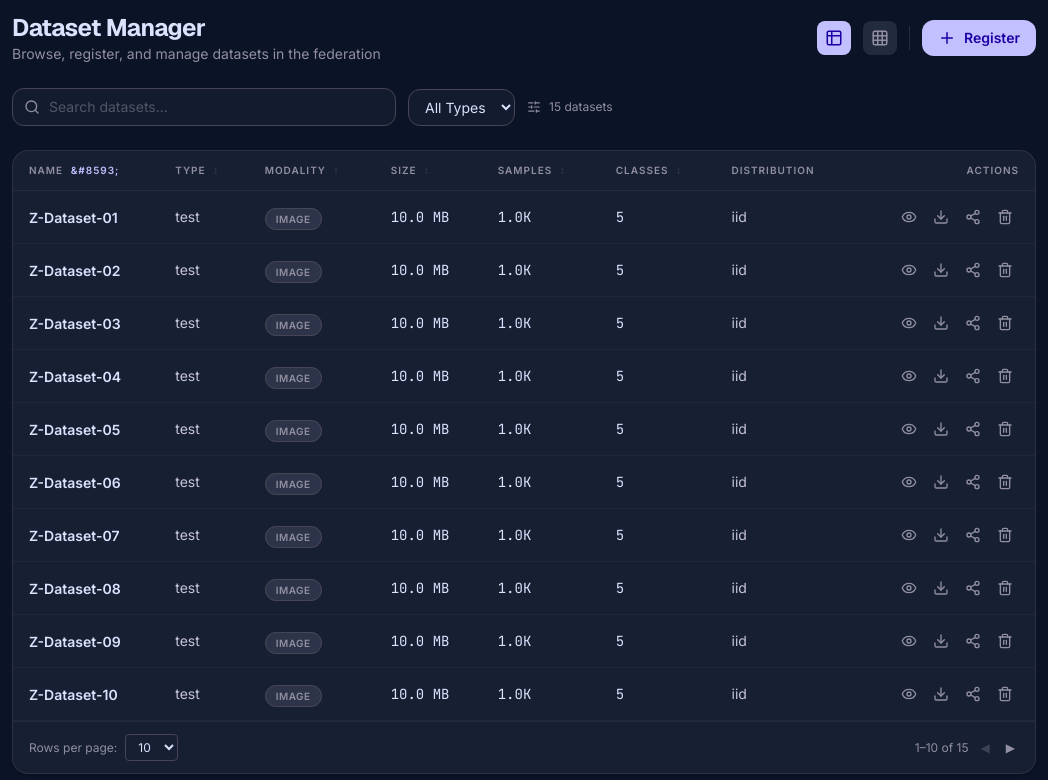
Datasets page › paginates when datasets exceed page size
Expected: the button "Z-Dataset-01" is shown, x1=29 y1=208 x2=118 y2=228
Expected: the text "Z-Dataset-11" is not shown
Click the button "▶" at {"x": 1010, "y": 748}, box x1=1002 y1=736 x2=1019 y2=760
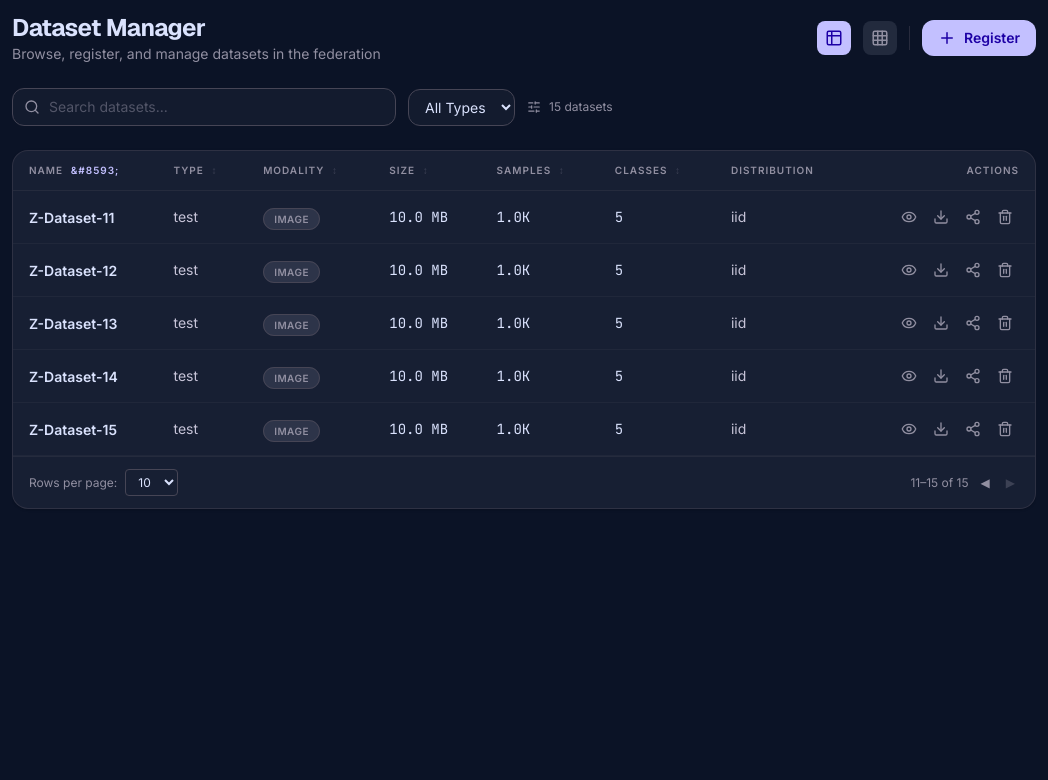
Now the button "Z-Dataset-11" is shown, box x1=29 y1=208 x2=114 y2=228
